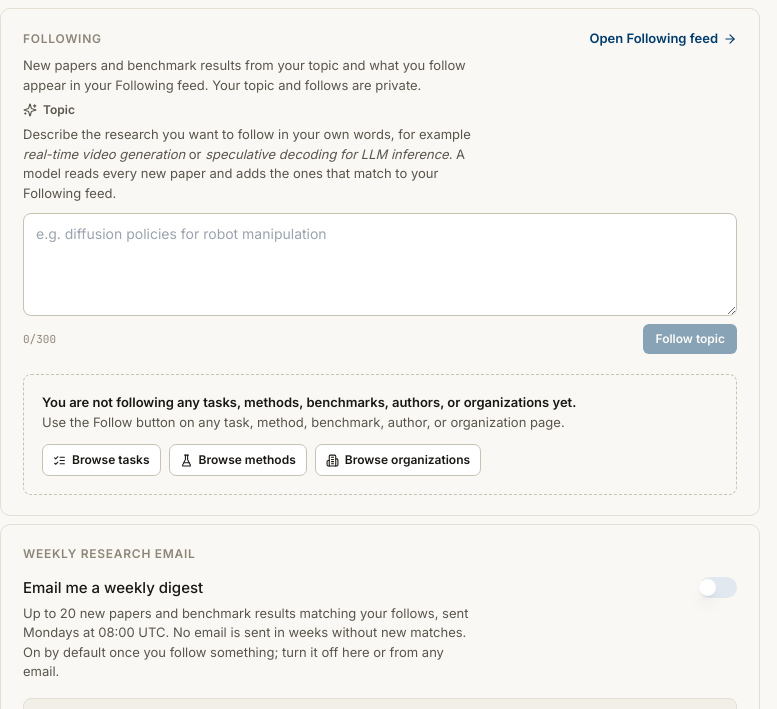
Test: research topic › saves a trimmed topic and reports backfill progress
Expected: the button "Follow topic" is disabled, [644,324,737,354]
Type "  real-time   video generation " into the text box named "Research topic" at {"x": 380, "y": 265}, box [23,213,737,316]
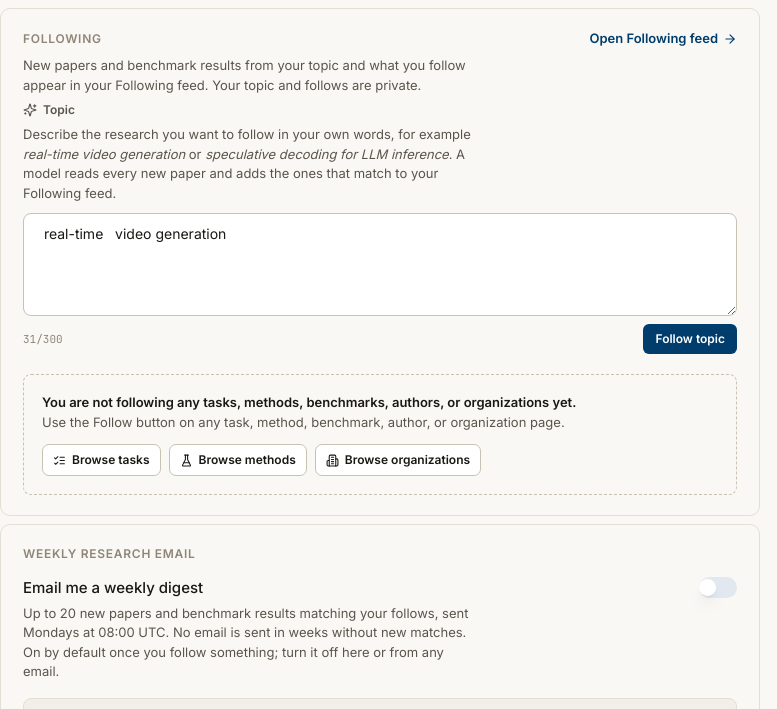
Click the button "Follow topic" at {"x": 690, "y": 339}, box [644,324,737,354]
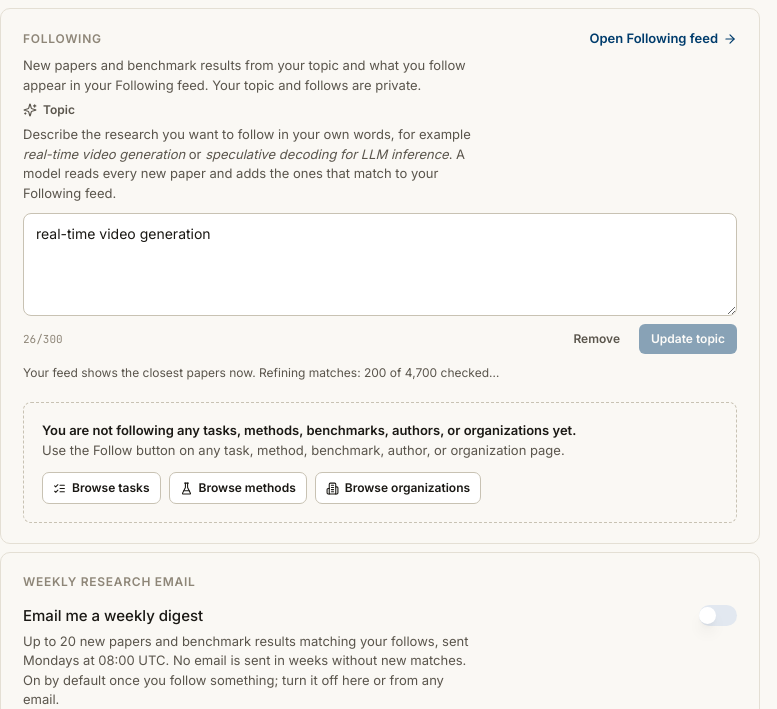
Result: the text "Your feed shows the closest papers now. Refining matches: 200 of 4,700 checked…" is shown at [23,365,499,380]
Result: the button "Update topic" is disabled at [639,324,737,354]
